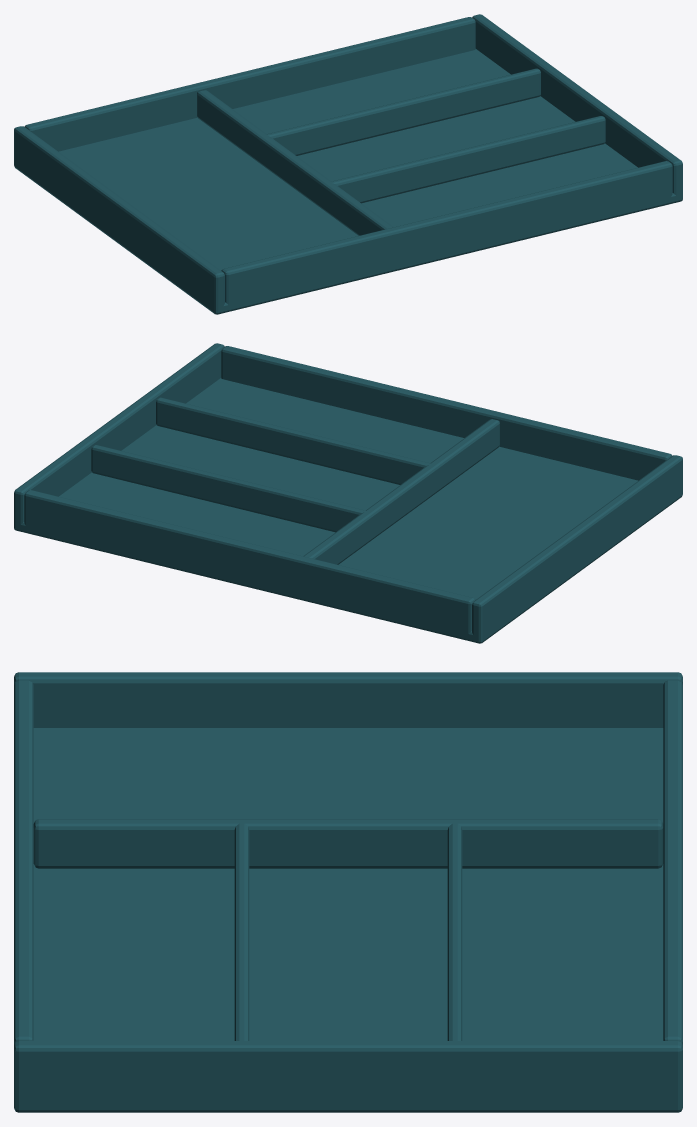
File: food-tray.glb
The picture shows the model from 3 angles, top to bottom: view 1: azimuth 30°, elevation 25°; view 2: azimuth 150°, elevation 25°; view 3: azimuth 270°, elevation 25°; orthographic projection. The views are drawn at different scales.
Parts seen in each view (by area): view 1: Tray_Base, Carry_Rim.003, Carry_Rim, Carry_Rim.001, Compartment_Divider.002, Compartment_Divider, Carry_Rim.002, Compartment_Divider.001; view 2: Tray_Base, Carry_Rim, Carry_Rim.003, Carry_Rim.001, Compartment_Divider, Compartment_Divider.002, Carry_Rim.002, Compartment_Divider.001; view 3: Tray_Base, Carry_Rim.002, Carry_Rim.001, Compartment_Divider.001, Carry_Rim, Carry_Rim.003, Compartment_Divider, Compartment_Divider.002.
Part boxes in pixels (x1,y1,x2,y2): Tray_Base: (14,49,682,314); Carry_Rim.003: (221,161,672,304); Carry_Rim: (24,17,475,151); Carry_Rim.001: (14,126,224,307); Compartment_Divider.002: (331,116,605,203); Compartment_Divider: (266,68,540,155); Carry_Rim.002: (472,14,682,195); Compartment_Divider.001: (197,90,393,235); Tray_Base: (14,378,682,643); Carry_Rim: (24,490,475,633); Carry_Rim.003: (221,346,672,480); Carry_Rim.001: (472,455,682,636); Compartment_Divider: (91,445,365,532); Compartment_Divider.002: (156,397,430,484); Carry_Rim.002: (14,343,224,524); Compartment_Divider.001: (303,419,499,564); Tray_Base: (14,728,682,1112); Carry_Rim.002: (14,1041,682,1101); Carry_Rim.001: (14,672,682,727); Compartment_Divider.001: (33,819,663,868); Carry_Rim: (663,680,682,1044); Carry_Rim.003: (14,680,33,1044); Compartment_Divider: (447,823,462,1040); Compartment_Divider.002: (234,823,249,1040).
Size of the model in its own units: 0.36 by 0.03 by 0.27.
